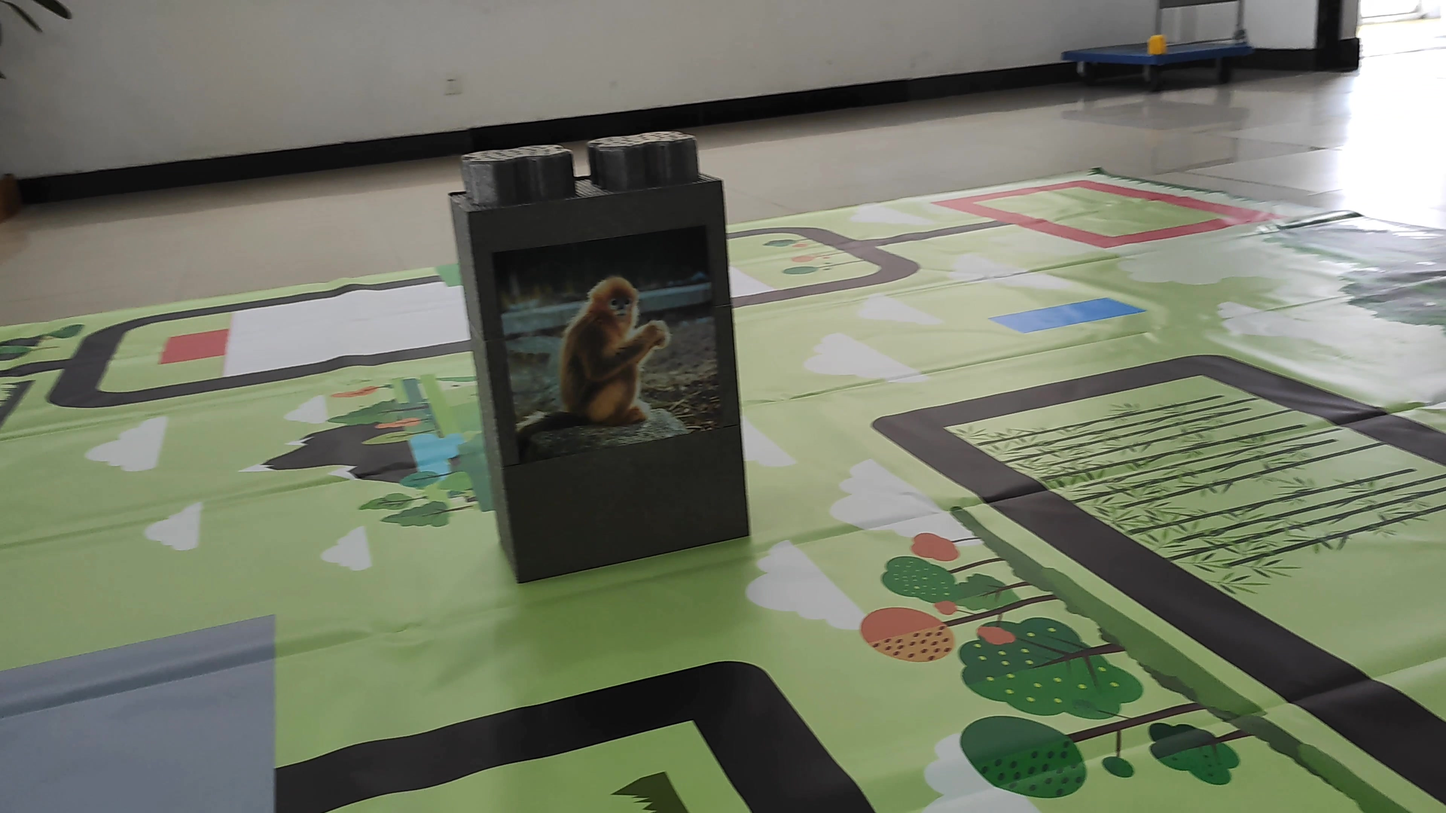monkey: (508, 255, 682, 455)
